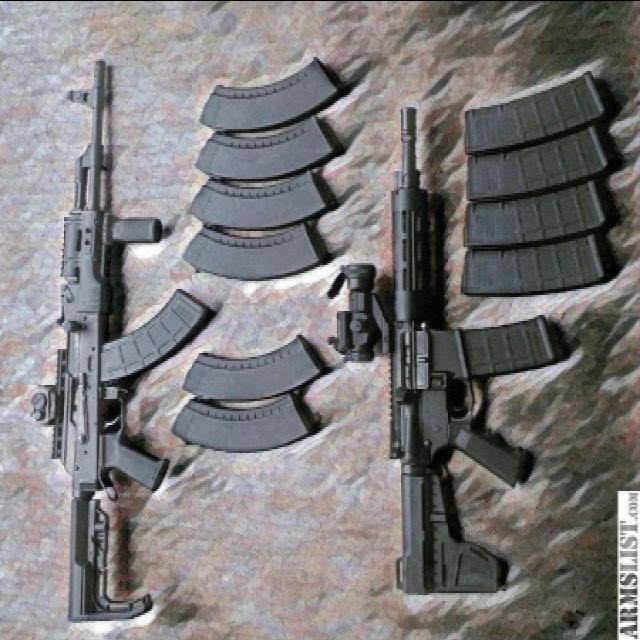rifle: (348, 105, 560, 631), (34, 57, 212, 629)
